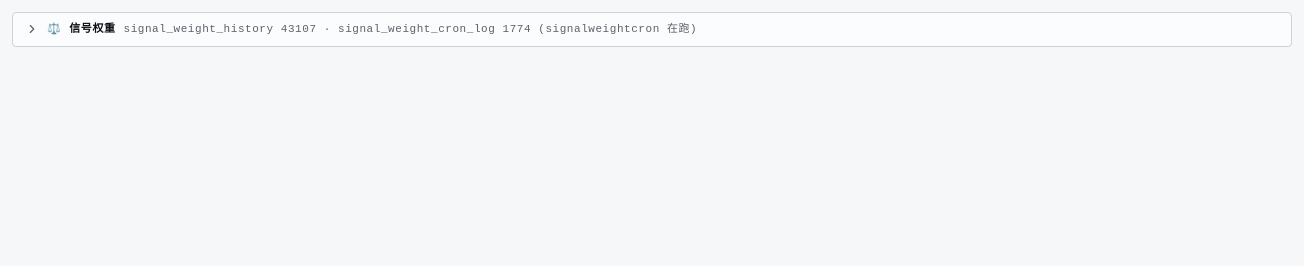
Test case: BackendCapabilityPanel › 展开后调 loader 并渲染 stats / rows / note
Click the text "信号权重".
click(92, 29)  # box left=69, top=21, right=116, bottom=38
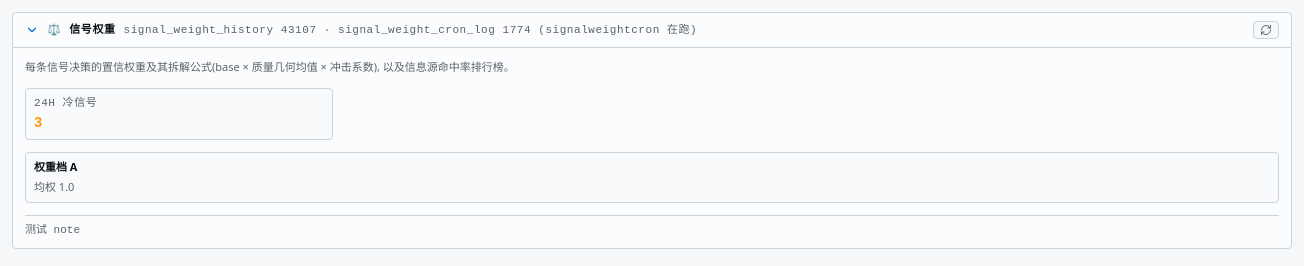
Expected: the text "24h 冷信号" is shown, left=34, top=97, right=97, bottom=109
Expected: the text "权重档 A" is shown, left=34, top=159, right=78, bottom=176
Expected: the text "测试 note" is shown, left=25, top=215, right=1279, bottom=238
